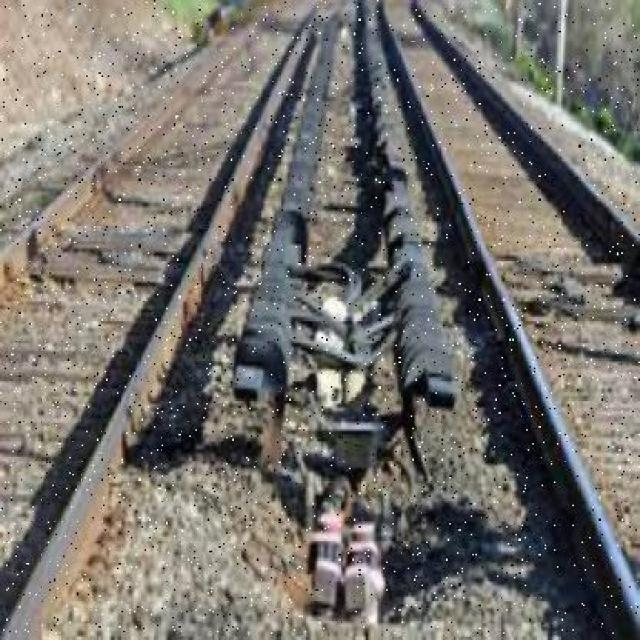rail: (0, 0, 640, 634)
